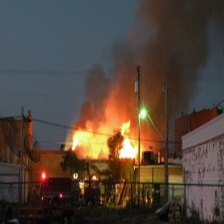fire: (72, 121, 142, 161)
smoke: (69, 1, 221, 128)
